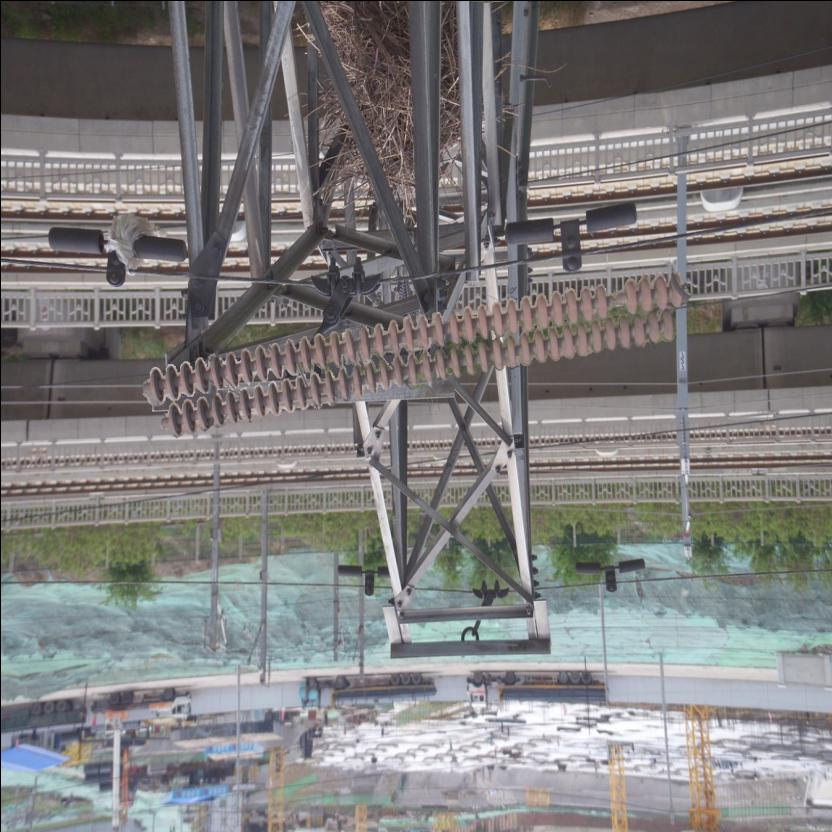defect: (590, 278, 642, 323)
